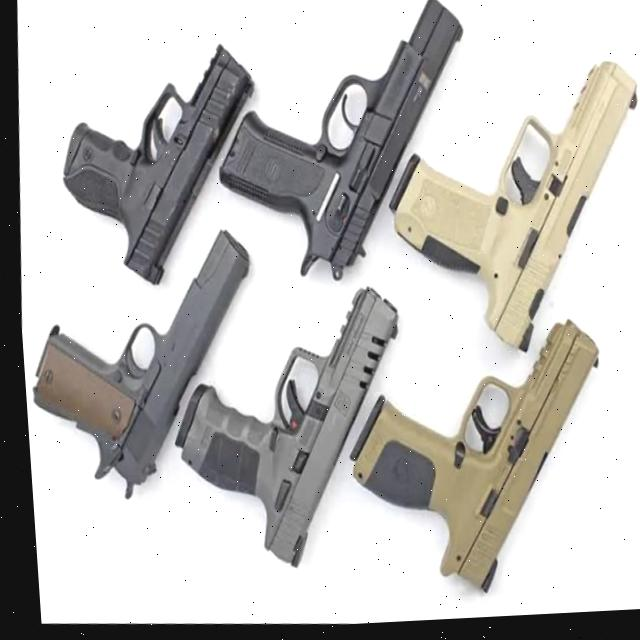gun: (388, 59, 635, 351), (216, 0, 462, 279), (349, 317, 598, 591), (172, 286, 397, 567), (32, 228, 249, 498), (61, 43, 254, 284)
